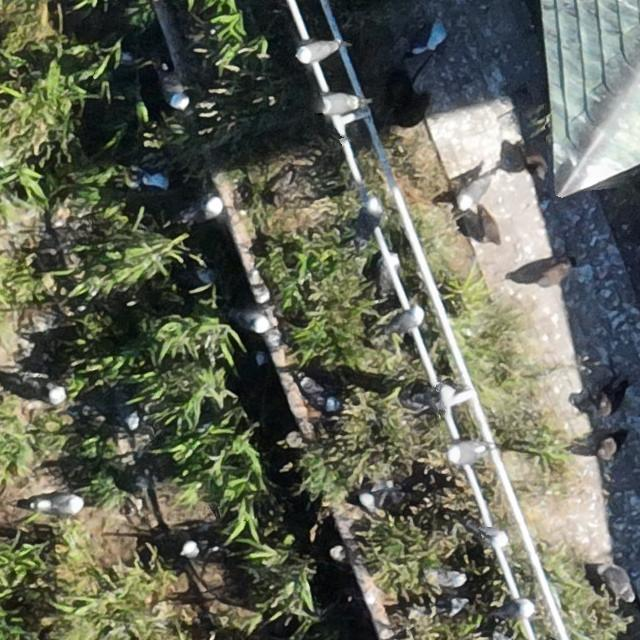umineko: (457, 177, 493, 213), (598, 564, 634, 600), (158, 66, 188, 108), (310, 90, 362, 114), (226, 307, 272, 332), (361, 485, 407, 508), (409, 385, 453, 409), (300, 379, 332, 408), (185, 196, 222, 221), (114, 395, 139, 431), (378, 253, 398, 297), (38, 495, 81, 515), (28, 382, 66, 404), (393, 308, 425, 329), (448, 442, 483, 461), (142, 168, 170, 190), (298, 43, 330, 62), (500, 602, 533, 620), (432, 570, 468, 586), (364, 197, 382, 217), (182, 540, 202, 558), (485, 530, 506, 544)
